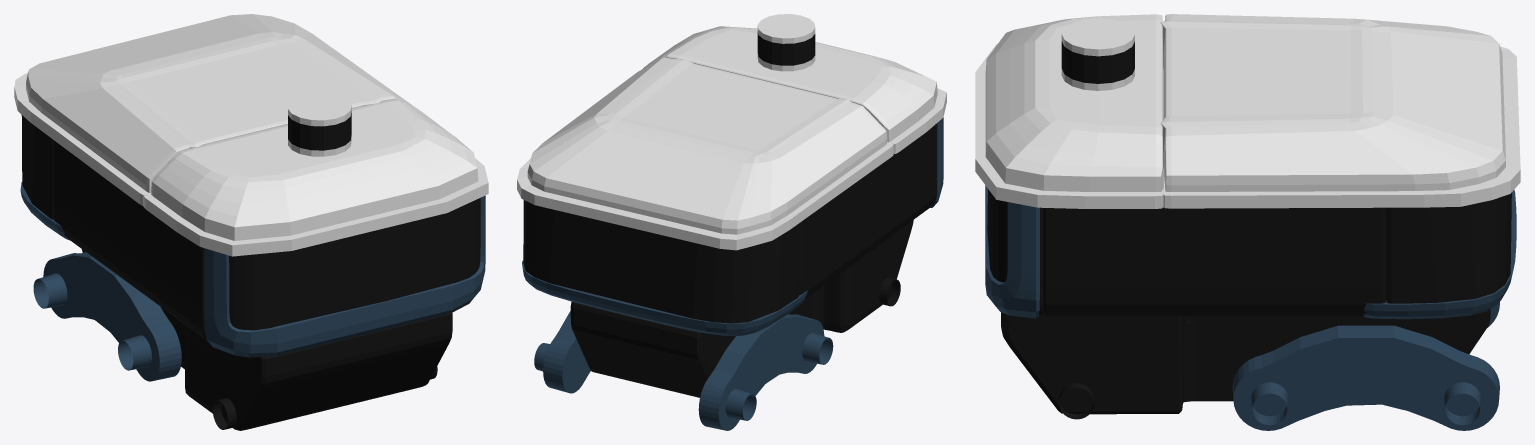
The model's file is car_drone_body.fbx.
3 views of the same model, side by side, from view 1: azimuth 30°, elevation 25°; view 2: azimuth 150°, elevation 25°; view 3: azimuth 270°, elevation 25° (orthographic). The views are drawn at different scales.
Visible parts, largest first — view 1: car_drone_body; view 2: car_drone_body; view 3: car_drone_body.
Boxes of the visible parts, bbox=[...] form: car_drone_body: bbox=[14, 14, 488, 430]; car_drone_body: bbox=[517, 14, 946, 430]; car_drone_body: bbox=[975, 14, 1520, 430].
Bounding box in the file's own units: 0.5275 × 0.5278 × 0.7538.
